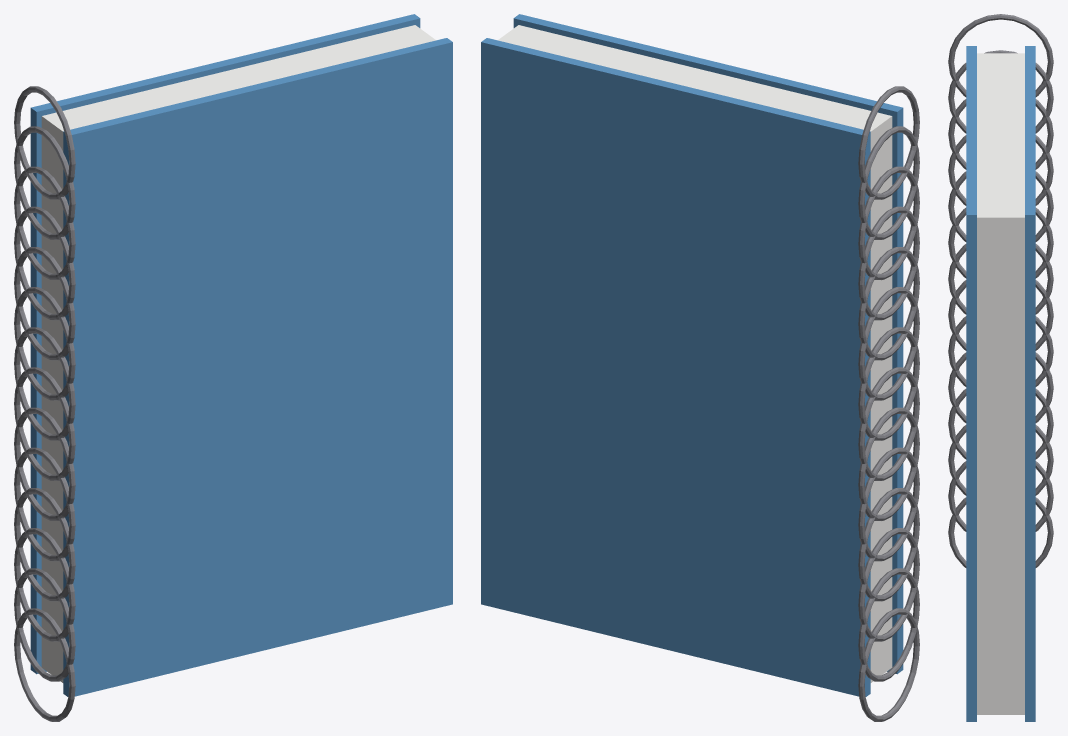
File: notebook.glb
The picture shows the model from 3 angles, left to right: view 1: azimuth 30°, elevation 25°; view 2: azimuth 150°, elevation 25°; view 3: azimuth 270°, elevation 25°; orthographic projection. The views are drawn at different scales.
Visible parts, largest first — view 1: FrontCover, Spiral, Pages, BackCover; view 2: BackCover, Spiral, Pages, FrontCover; view 3: Pages, Spiral, FrontCover, BackCover.
Part boxes in pixels (x1,y1,x2,y2): FrontCover: (63, 38, 452, 696); Spiral: (14, 86, 75, 721); Pages: (41, 25, 435, 682); BackCover: (30, 14, 420, 674); BackCover: (481, 38, 870, 696); Spiral: (858, 86, 919, 721); Pages: (498, 25, 892, 682); FrontCover: (513, 14, 903, 674); Pages: (977, 53, 1024, 714); Spiral: (948, 14, 1053, 567); FrontCover: (966, 46, 976, 721); BackCover: (1025, 46, 1035, 721).
Size of what is drawn, in the model's own units: 0.1531 by 0.2346 by 0.0396.
